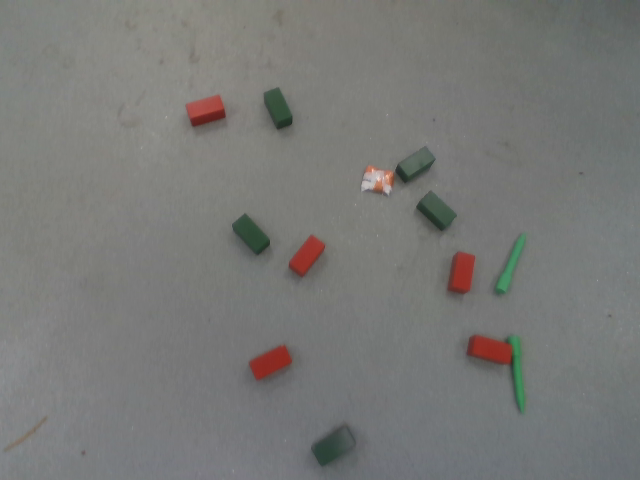Probe: (492, 228, 528, 295), (505, 333, 527, 416)
